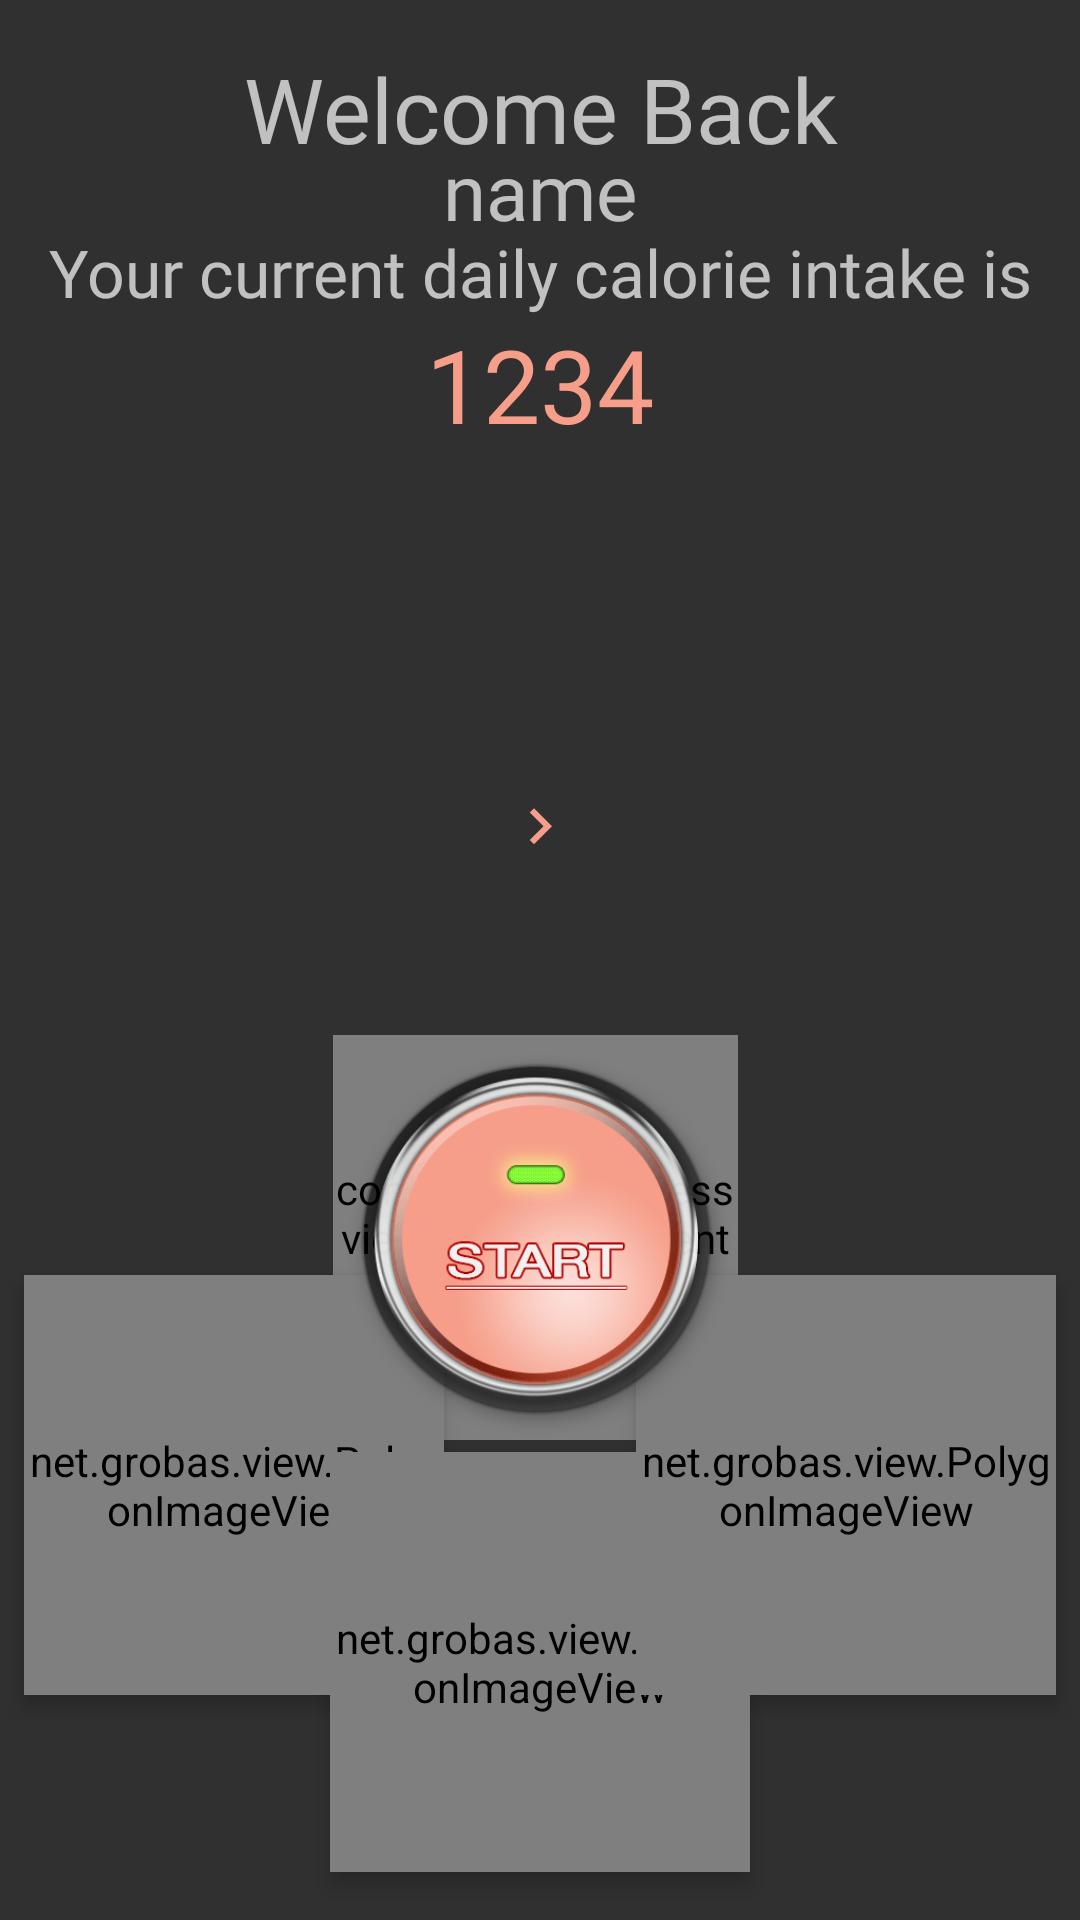

Named icons in this screenshot (1080px×1920px) and their centers, [x,y]:
next day: [541,826]
